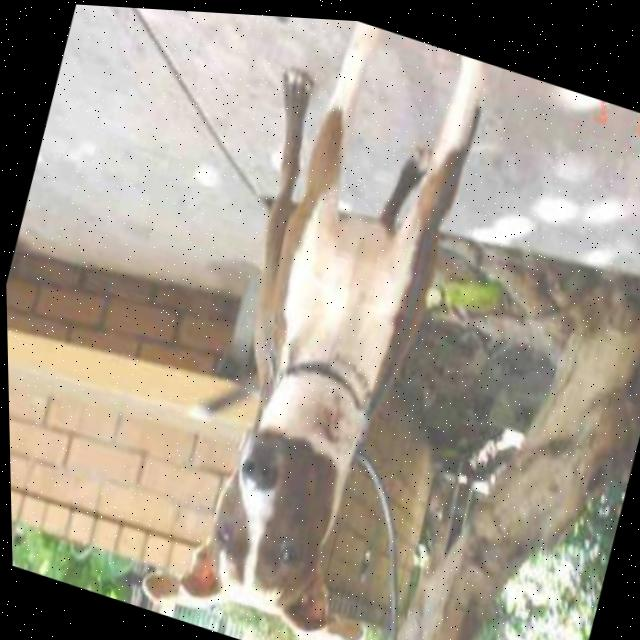dogs: (108, 5, 528, 640)
